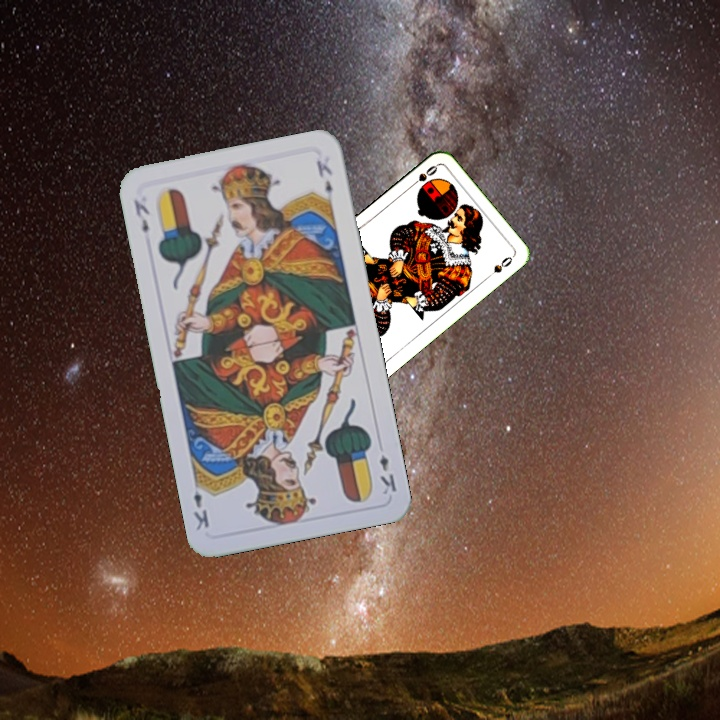EK: (375, 450, 399, 497), (129, 195, 152, 236)
SO: (405, 161, 440, 191)
